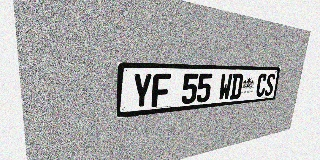5: (181, 73, 199, 104), (196, 73, 212, 103)
C: (255, 74, 267, 97)
D: (229, 73, 244, 100)
F: (151, 73, 171, 107)
S: (264, 74, 276, 96)
W: (218, 73, 233, 101)
Y: (131, 73, 152, 109)
